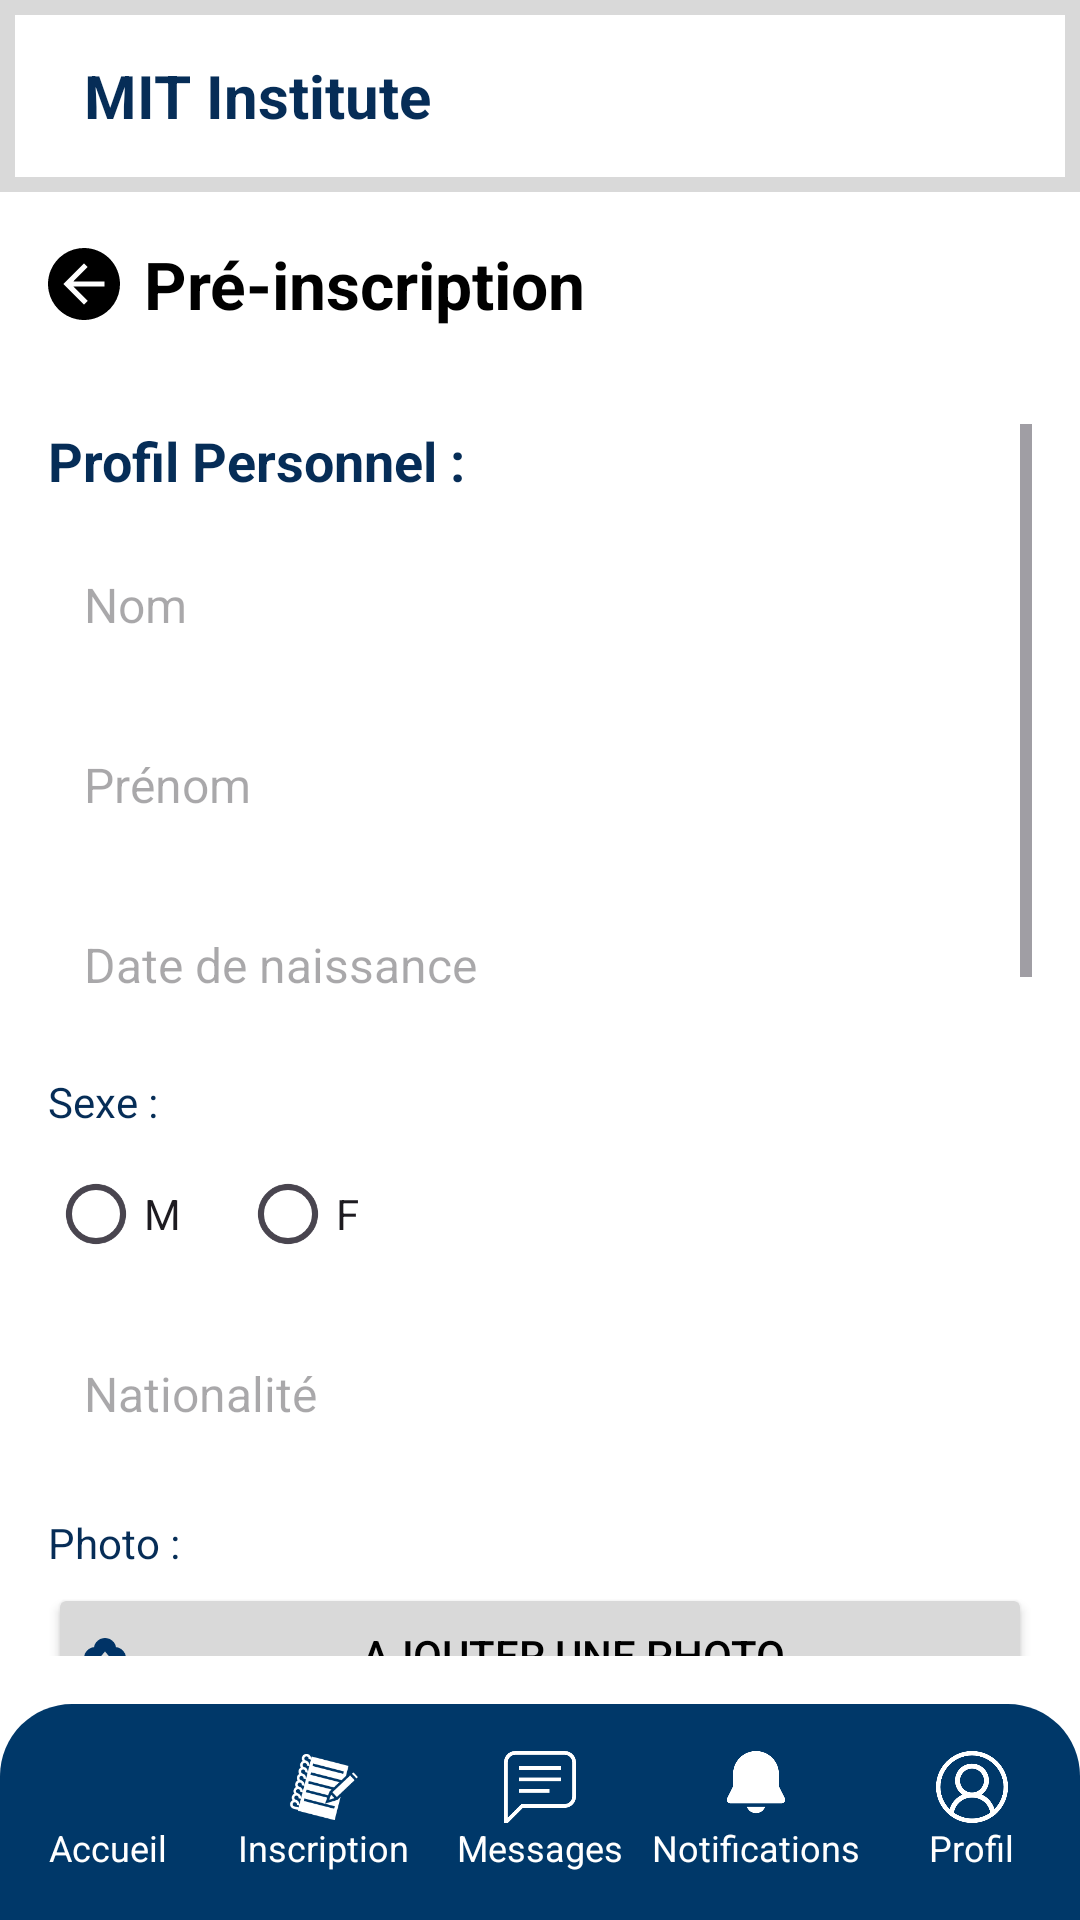

Point at icon controls on the screen. Image size 1080 x 1920, points as [x,y].
Notes: [324,1787]
Retour: [84,284]
